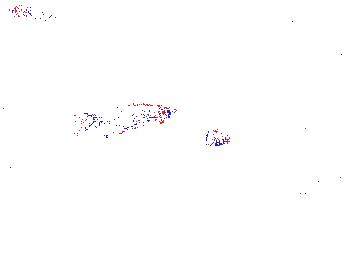glassfish: (279, 167, 346, 211)
red belly glassfish: (10, 3, 47, 22), (321, 45, 346, 64)
redtail glassfish: (73, 103, 174, 131), (204, 124, 232, 151)
